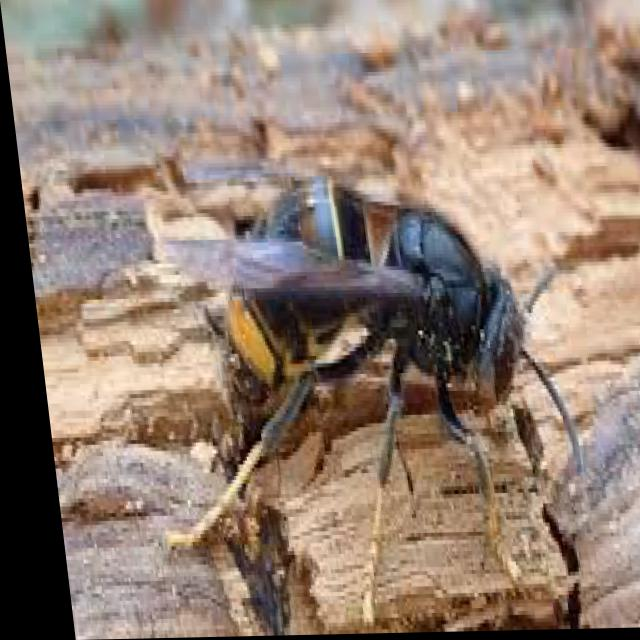Vespa Velutina: (97, 131, 610, 635)
